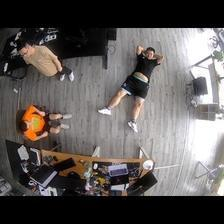fall: (97, 44, 164, 132)
normal: (16, 39, 73, 82), (19, 104, 71, 137)
